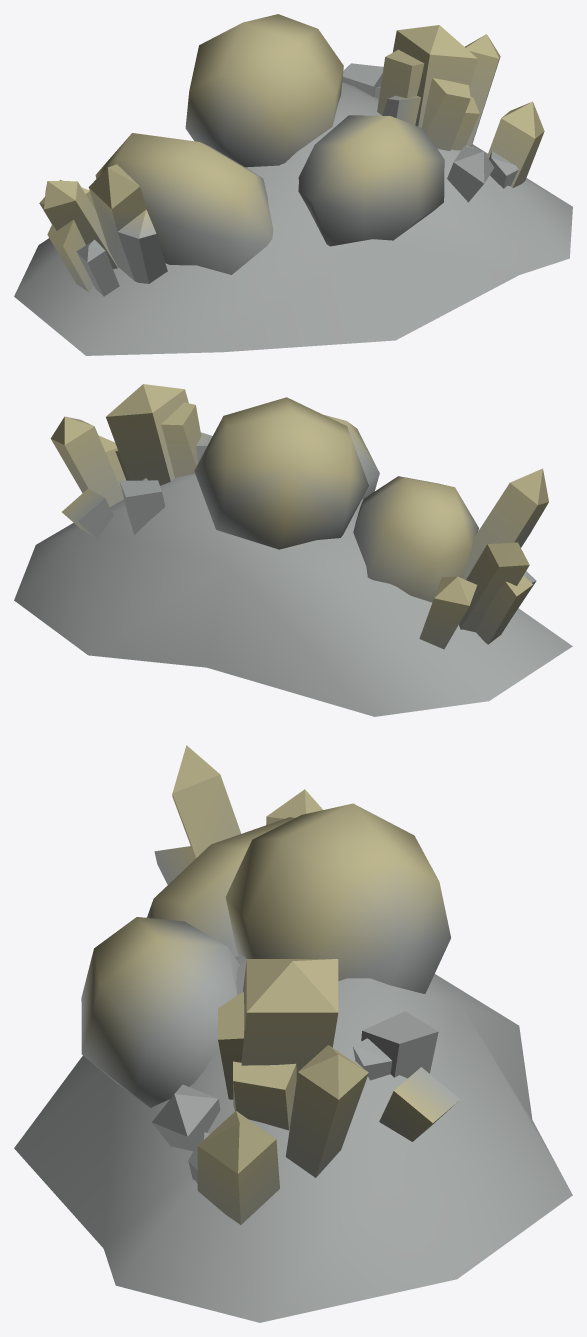
3 views of the same model, one above another, from view 1: azimuth 30°, elevation 25°; view 2: azimuth 150°, elevation 25°; view 3: azimuth 270°, elevation 25° (orthographic). The views are drawn at different scales.
Parts seen in each view (by area): view 1: G:\FFXIV-MapTools\exports\l1f1\bg\ffxiv\lak_l1\fld\l1f1\bgpa; view 2: G:\FFXIV-MapTools\exports\l1f1\bg\ffxiv\lak_l1\fld\l1f1\bgpa; view 3: G:\FFXIV-MapTools\exports\l1f1\bg\ffxiv\lak_l1\fld\l1f1\bgpa.
Part boxes in pixels (bbox=[...]): G:\FFXIV-MapTools\exports\l1f1\bg\ffxiv\lak_l1\fld\l1f1\bgpa: bbox=[14, 14, 572, 355]; G:\FFXIV-MapTools\exports\l1f1\bg\ffxiv\lak_l1\fld\l1f1\bgpa: bbox=[14, 384, 572, 716]; G:\FFXIV-MapTools\exports\l1f1\bg\ffxiv\lak_l1\fld\l1f1\bgpa: bbox=[14, 745, 572, 1322].
Size of the model in its own units: 3.78 by 1.64 by 2.56.
